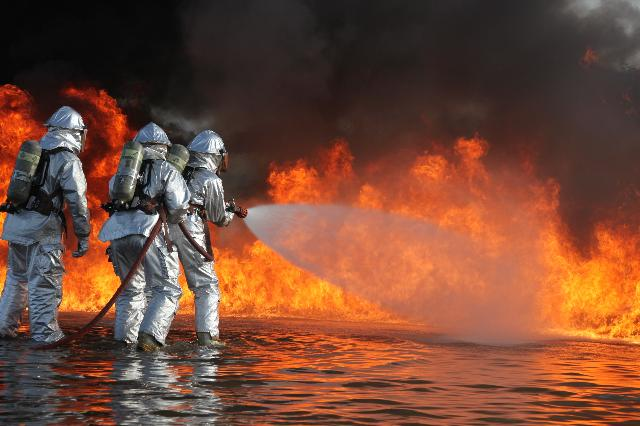fire: (209, 130, 637, 346), (58, 86, 133, 314), (3, 82, 48, 296), (170, 260, 198, 318)
smoke: (2, 1, 637, 227)
